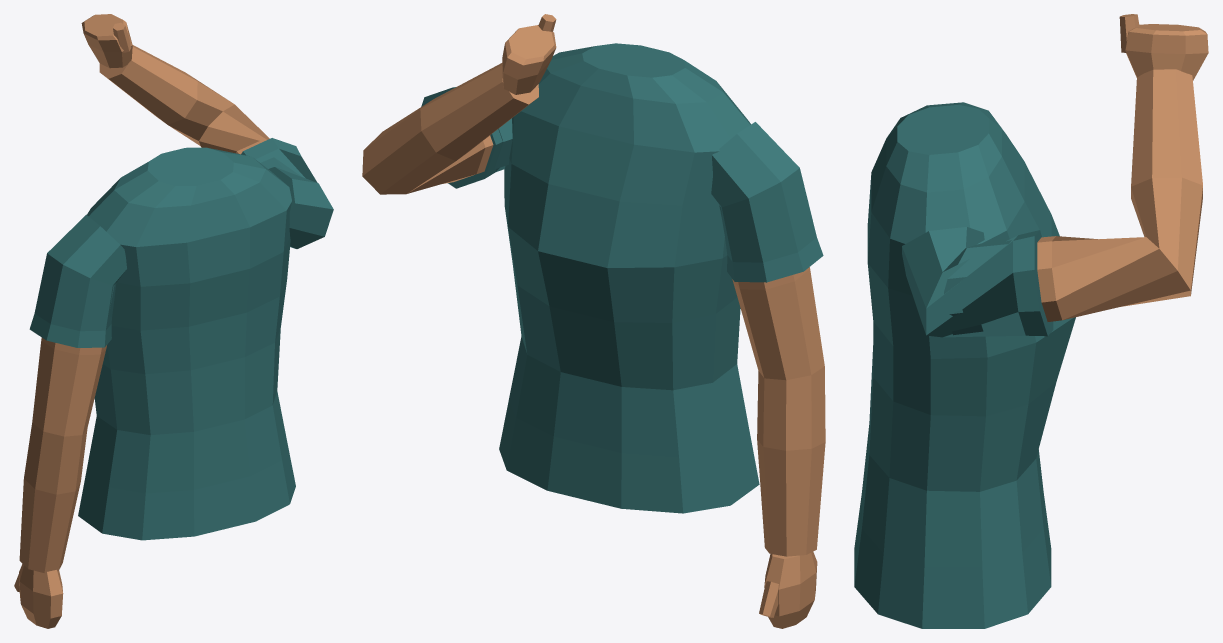
Rendered from lwf_singer_female_kit_v2.glb.
The picture shows the model from 3 angles, left to right: view 1: azimuth 30°, elevation 25°; view 2: azimuth 150°, elevation 25°; view 3: azimuth 270°, elevation 25°; orthographic projection. The views are drawn at different scales.
Parts seen in each view (by area): view 1: LWF_Singer_RightPlayingArm, LWF_Singer_LeftPlayingArm; view 2: LWF_Singer_RightPlayingArm, LWF_Singer_LeftPlayingArm; view 3: LWF_Singer_RightPlayingArm.
Part boxes in pixels (x1=…): LWF_Singer_RightPlayingArm: x1=78, y1=14, x2=333, y2=540; LWF_Singer_LeftPlayingArm: x1=14, y1=214, x2=126, y2=628; LWF_Singer_RightPlayingArm: x1=362, y1=14, x2=759, y2=513; LWF_Singer_LeftPlayingArm: x1=711, y1=122, x2=825, y2=628; LWF_Singer_RightPlayingArm: x1=854, y1=14, x2=1208, y2=628.
Size of the model in its own units: 0.4535 by 0.7312 by 0.3508.
Materials: 1 (1 with a texture image).
